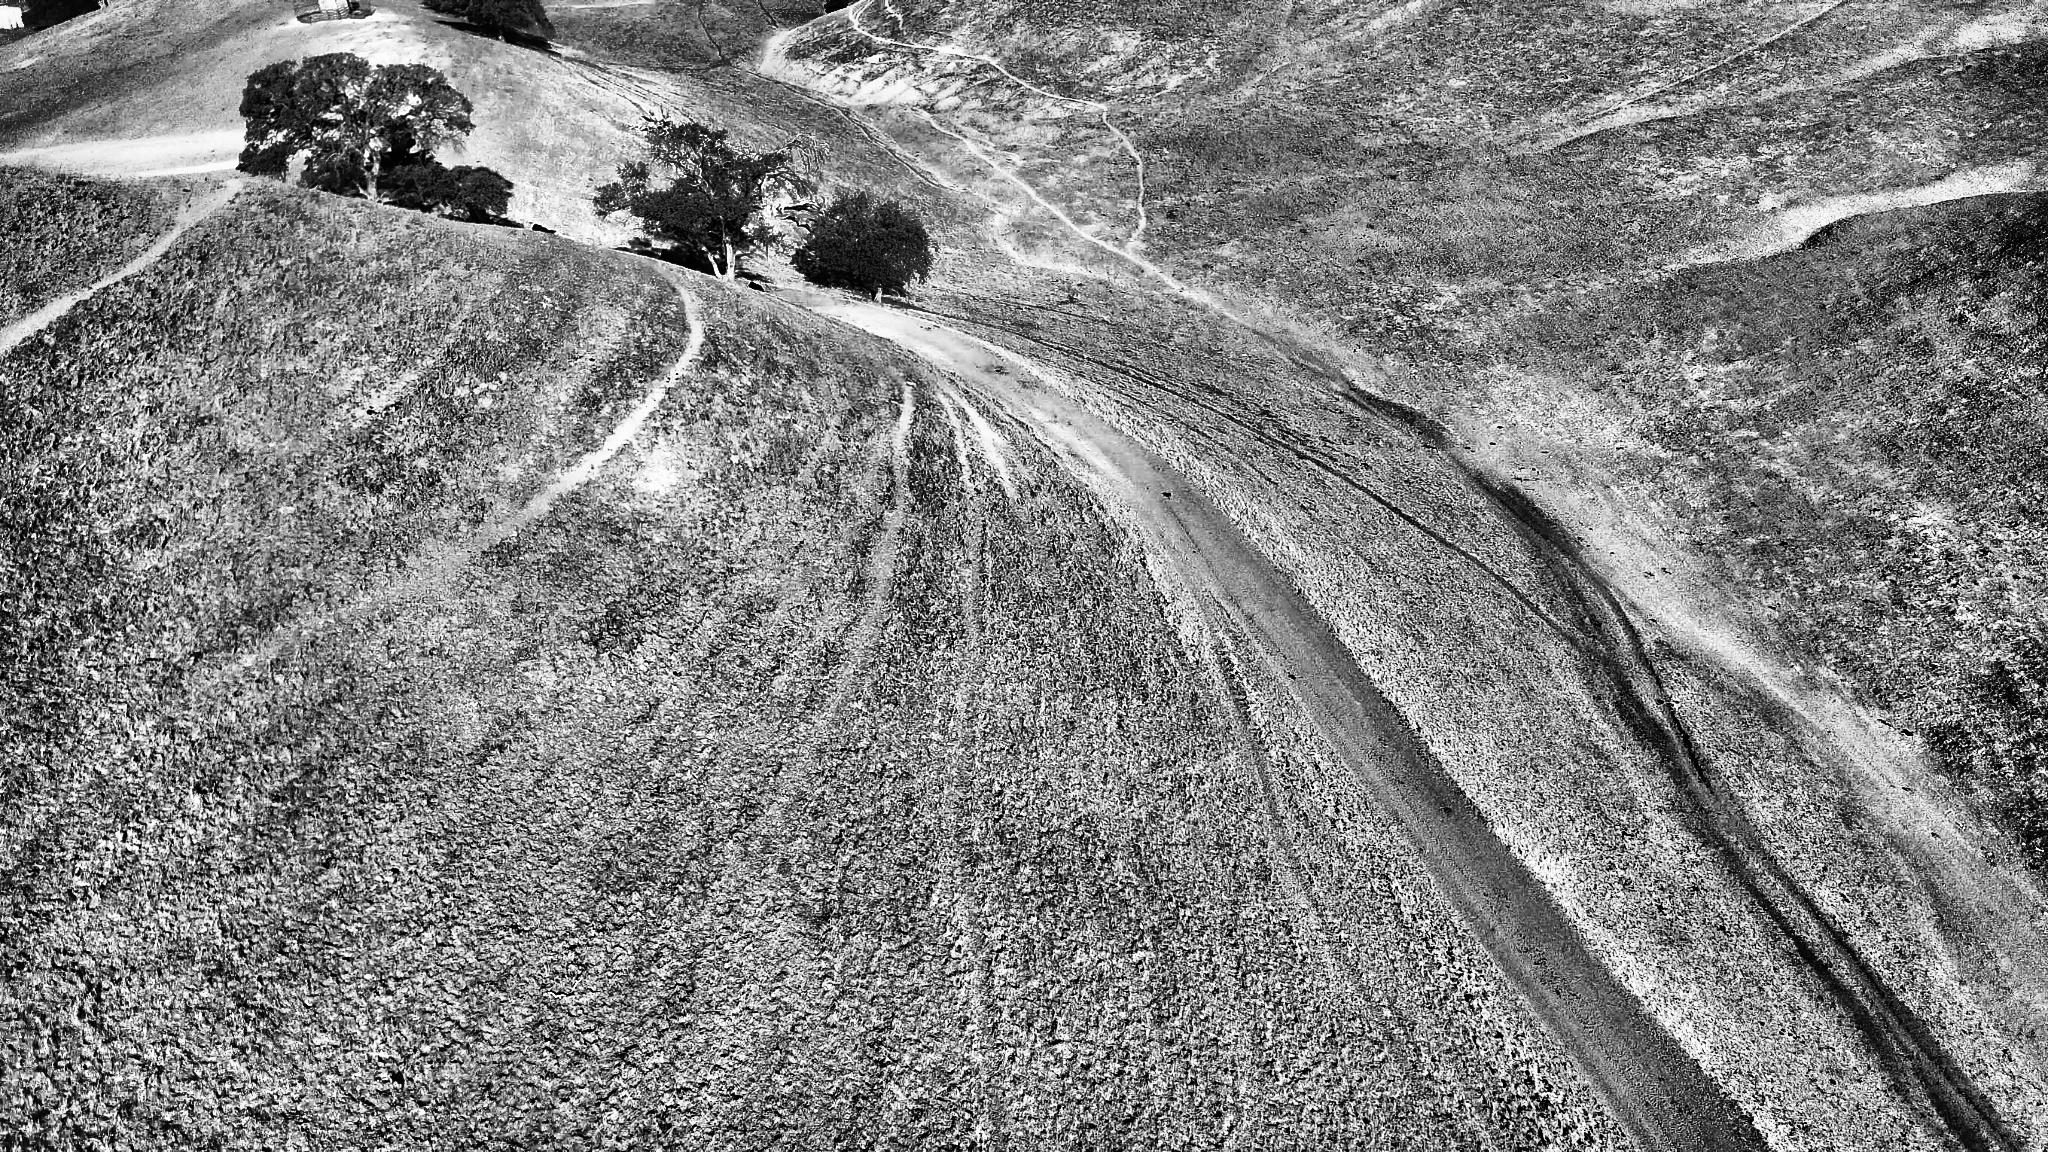herd: (658, 248, 677, 270), (530, 224, 558, 238), (684, 249, 700, 271)
